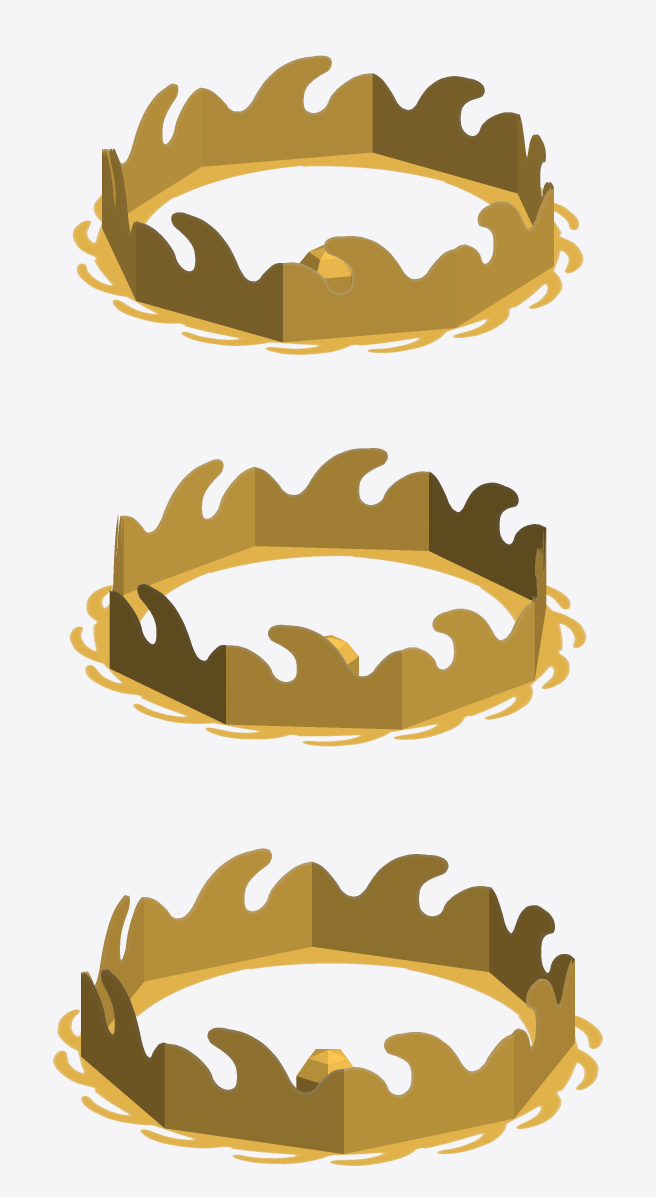
Rendered from Asset_BridgeON.fbx.
3 views of the same model, one above another, from view 1: azimuth 30°, elevation 25°; view 2: azimuth 150°, elevation 25°; view 3: azimuth 270°, elevation 25° (orthographic). The views are drawn at different scales.
Parts seen in each view (by area): view 1: outerlight, innerlight, circle, lightball01; view 2: outerlight, innerlight, circle, lightball01; view 3: outerlight, innerlight, circle, lightball01.
Part boxes in pixels (x1,y1,x2,y2): outerlight: (102, 55, 553, 342); innerlight: (104, 56, 551, 294); circle: (72, 152, 583, 354); lightball01: (299, 245, 352, 293); outerlight: (109, 448, 546, 729); innerlight: (112, 449, 543, 682); circle: (69, 546, 586, 746); lightball01: (324, 635, 358, 675); outerlight: (81, 848, 574, 1153); innerlight: (84, 849, 571, 1095); circle: (53, 946, 602, 1165); lightball01: (296, 1049, 352, 1092).
Size of the model in its own units: 17.91 by 6.63 by 17.91.
